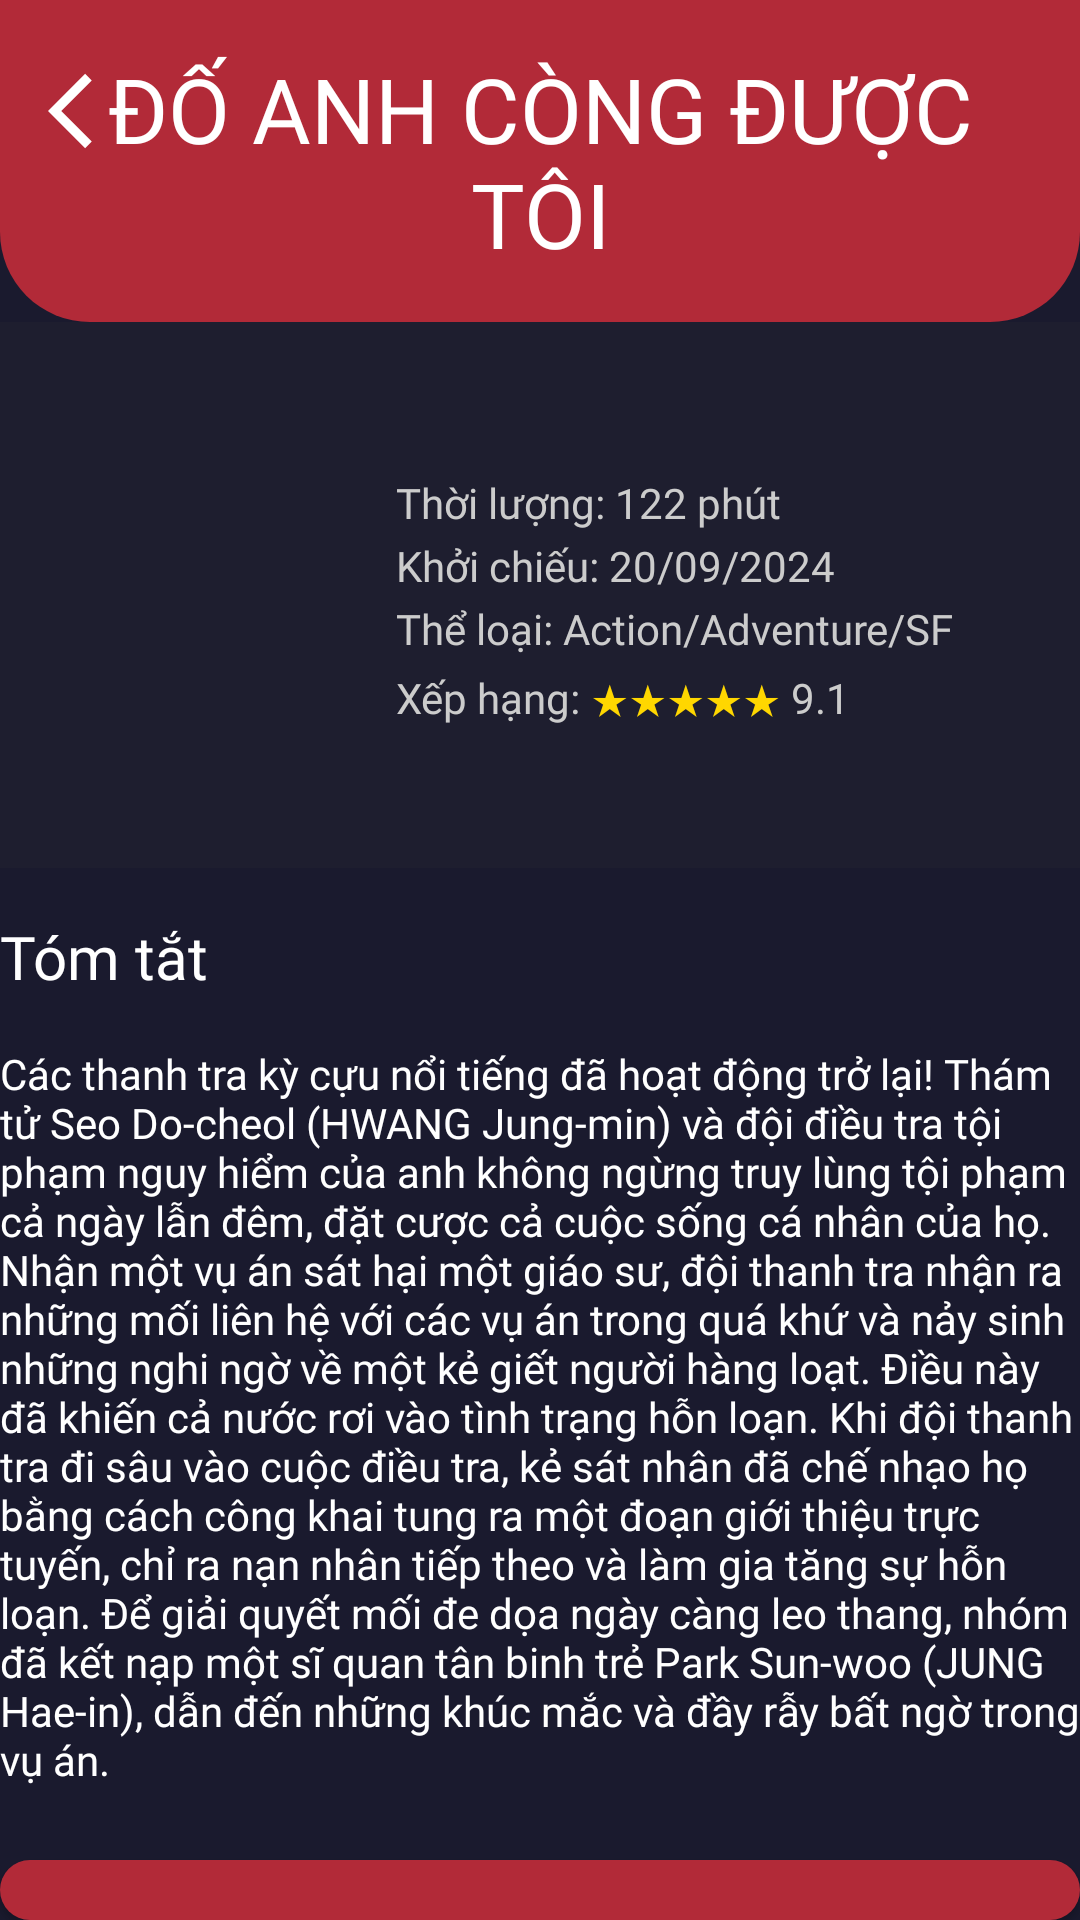

Where to tap for icons on this 1080px×1920px app screen, as (x=x, y=y):
back arrow: (x=70, y=111)
